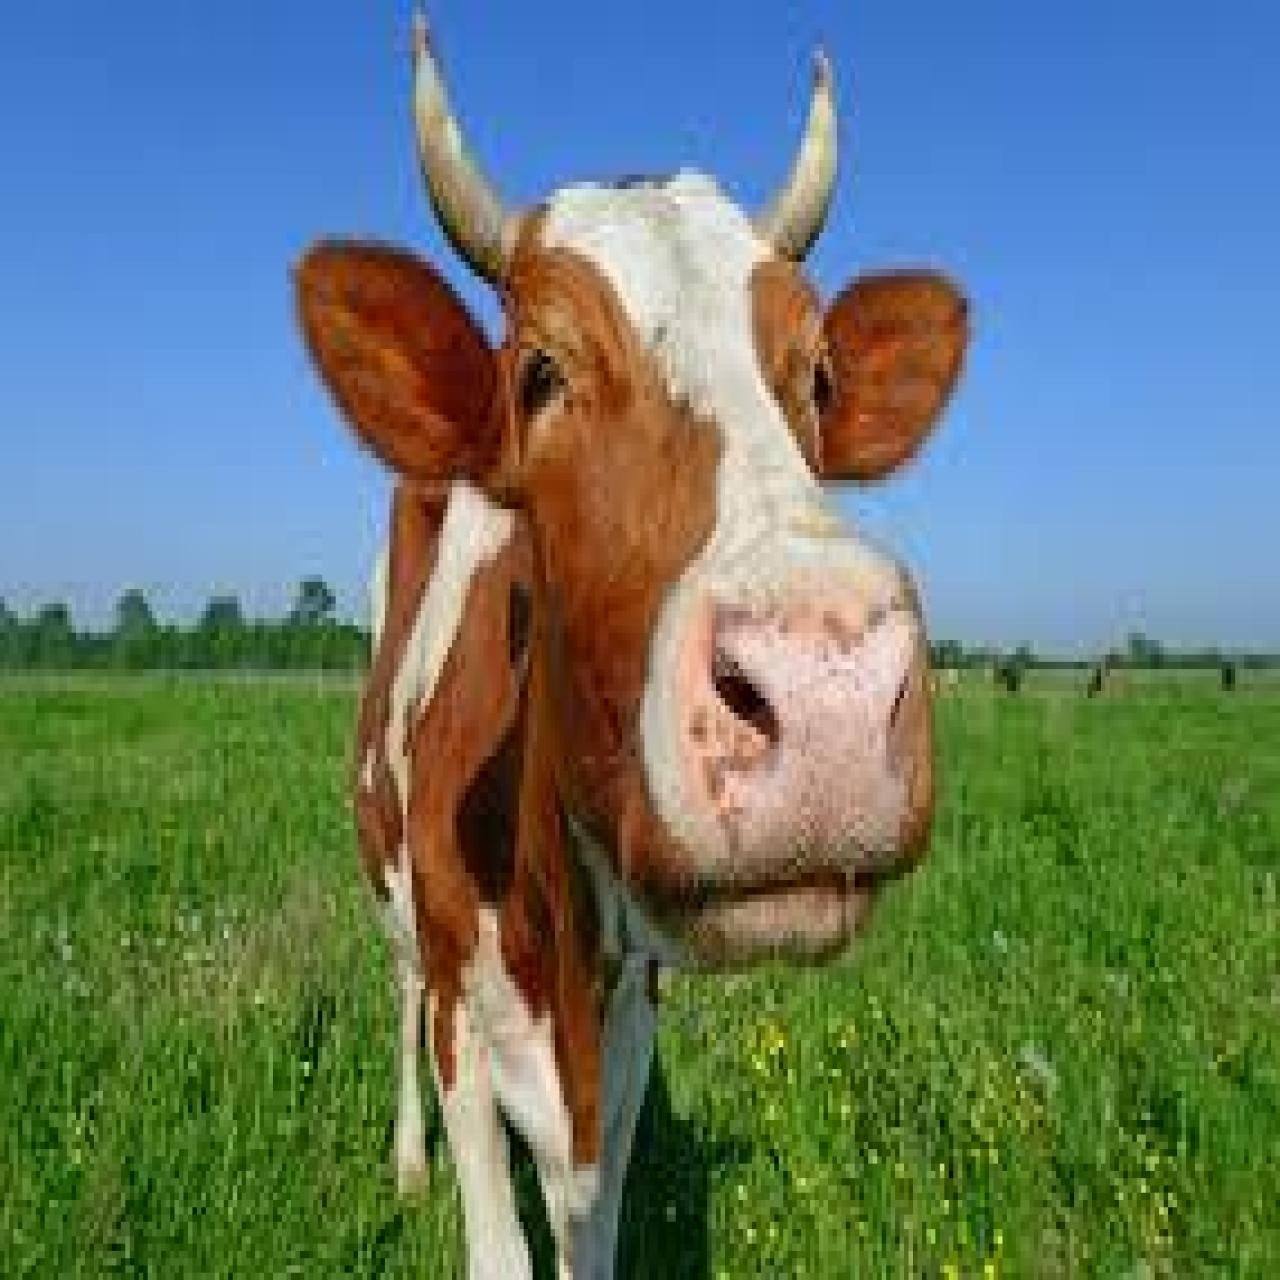cow: (306, 29, 978, 1280)
